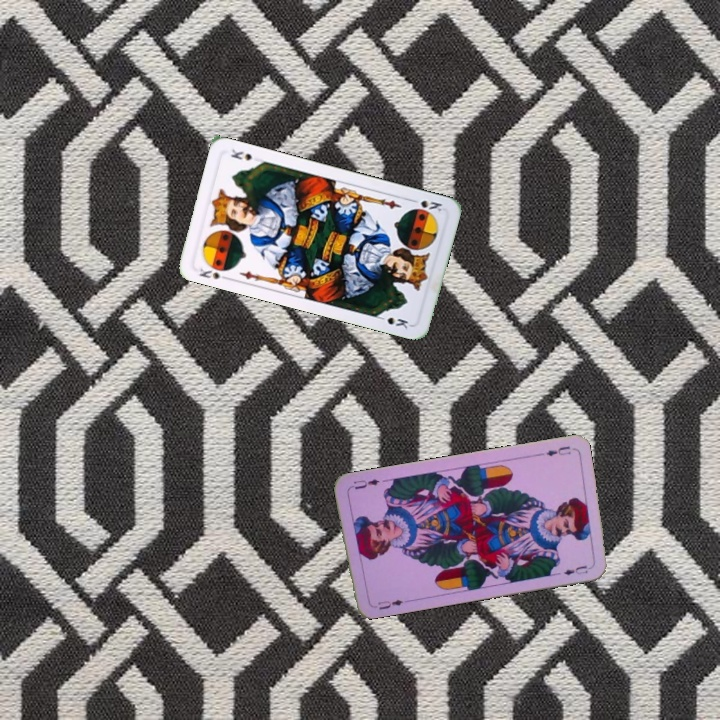EU: (368, 595, 405, 612), (542, 442, 573, 459)
SK: (406, 195, 445, 215), (195, 264, 232, 282)
